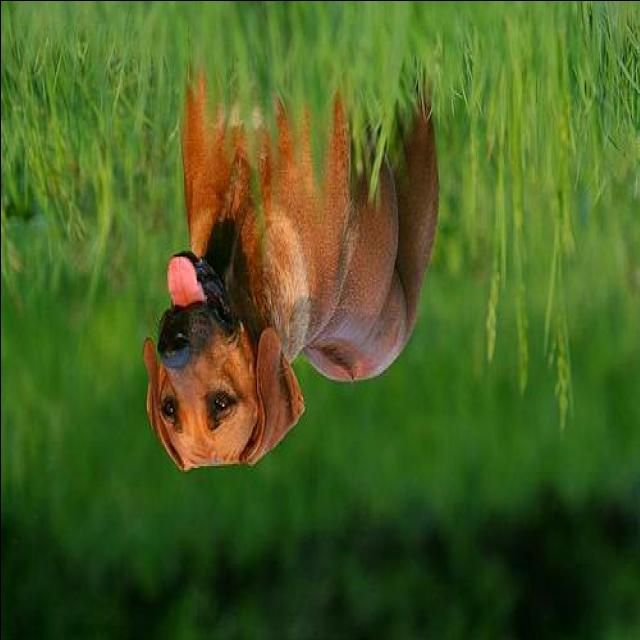rhodesian_ridgeback: (140, 2, 442, 473)
